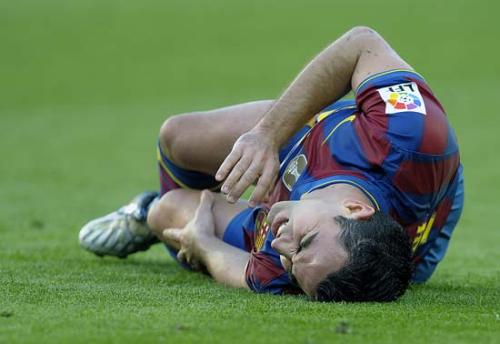down: (73, 21, 470, 311)
